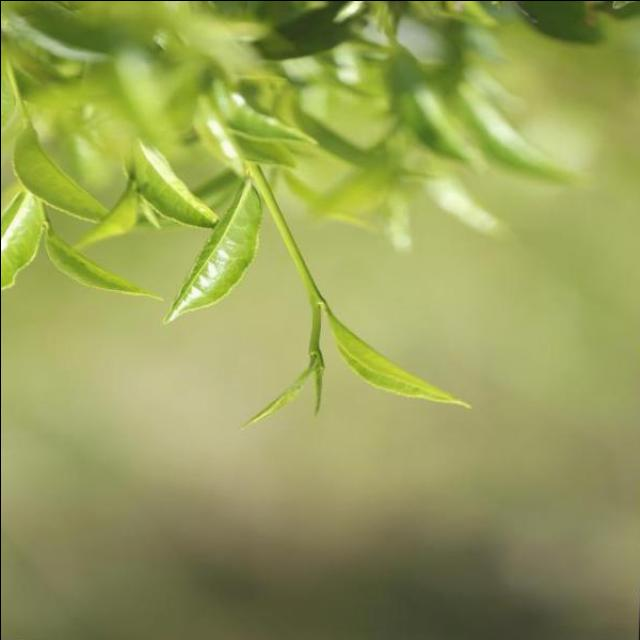Stem: (305, 285, 323, 305)
